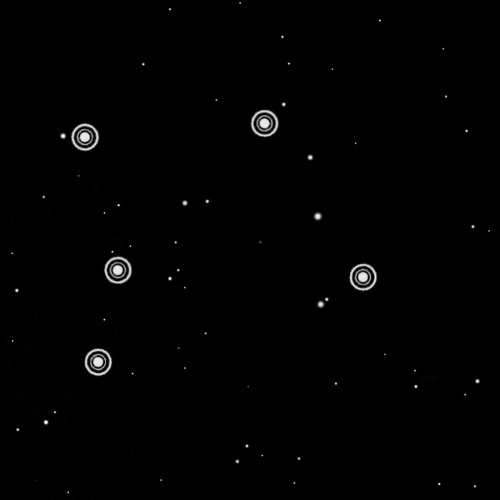libra: (59, 99, 385, 381)
